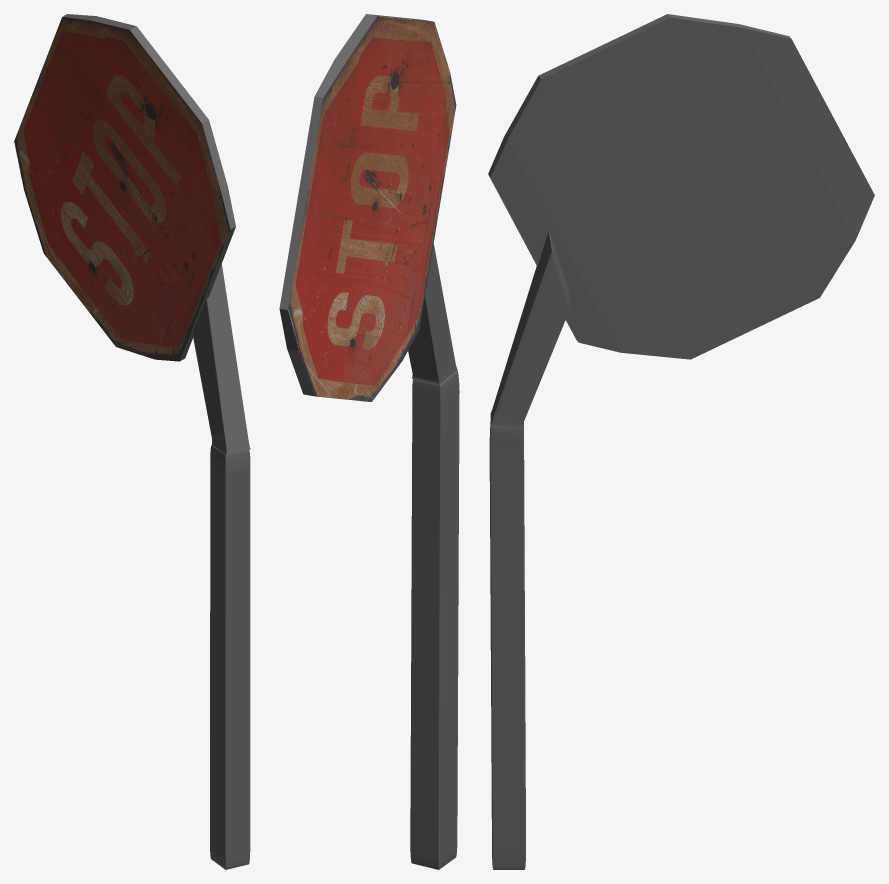
Rendered from stopsign2.fbx.
3 views of the same model, side by side, from view 1: azimuth 30°, elevation 25°; view 2: azimuth 150°, elevation 25°; view 3: azimuth 270°, elevation 25° (orthographic). The views are drawn at different scales.
Parts seen in each view (by area): view 1: Cube; view 2: Cube; view 3: Cube.
Boxes of the visible parts, x1,y1,x2,y2 form: Cube: (14, 14, 250, 869); Cube: (279, 14, 459, 869); Cube: (488, 14, 874, 869).
Bounding box in the file's own units: 141 × 1818 × 761.
